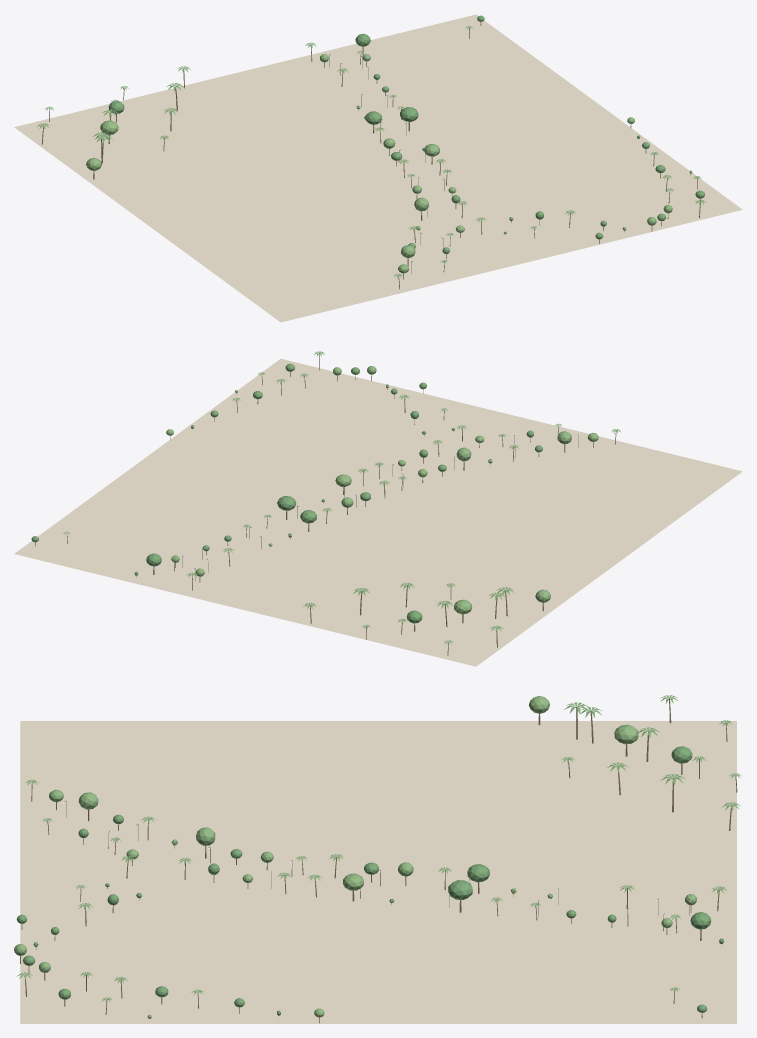
File: nature_-5_1.glb
The picture shows the model from 3 angles, top to bottom: view 1: azimuth 30°, elevation 25°; view 2: azimuth 150°, elevation 25°; view 3: azimuth 270°, elevation 25°; orthographic projection. The views are drawn at different scales.
Visible parts, largest first — view 1: ground, foliage_b, foliage_a, palm_leaf, trunk; view 2: ground, foliage_a, foliage_b, palm_leaf, trunk; view 3: ground, foliage_a, foliage_b, palm_leaf, trunk.
Part boxes in pixels (x1,y1,x2,y2): ground: [14, 14, 742, 322]; foliage_b: [86, 54, 692, 273]; foliage_a: [108, 15, 704, 253]; palm_leaf: [37, 26, 705, 278]; trunk: [42, 22, 700, 289]; ground: [14, 358, 742, 666]; foliage_a: [31, 363, 542, 623]; foliage_b: [166, 366, 598, 614]; palm_leaf: [63, 351, 620, 644]; trunk: [35, 354, 616, 655]; ground: [20, 721, 736, 1023]; foliage_a: [16, 746, 724, 1015]; foliage_b: [14, 696, 696, 1018]; palm_leaf: [17, 695, 741, 1002]; trunk: [20, 698, 737, 1023].
Bounding box in the file's own units: 253 × 13.6 × 254.
